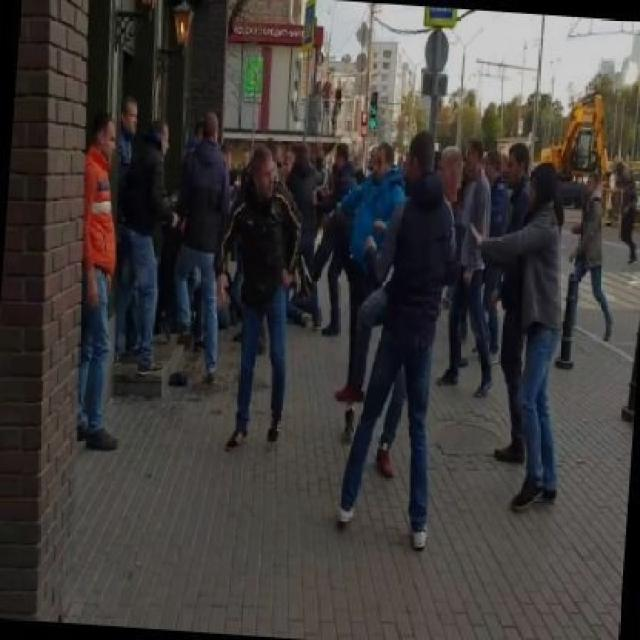non-fight: (323, 124, 469, 554), (457, 109, 581, 514), (63, 91, 175, 454), (164, 102, 236, 384), (228, 150, 291, 446)
